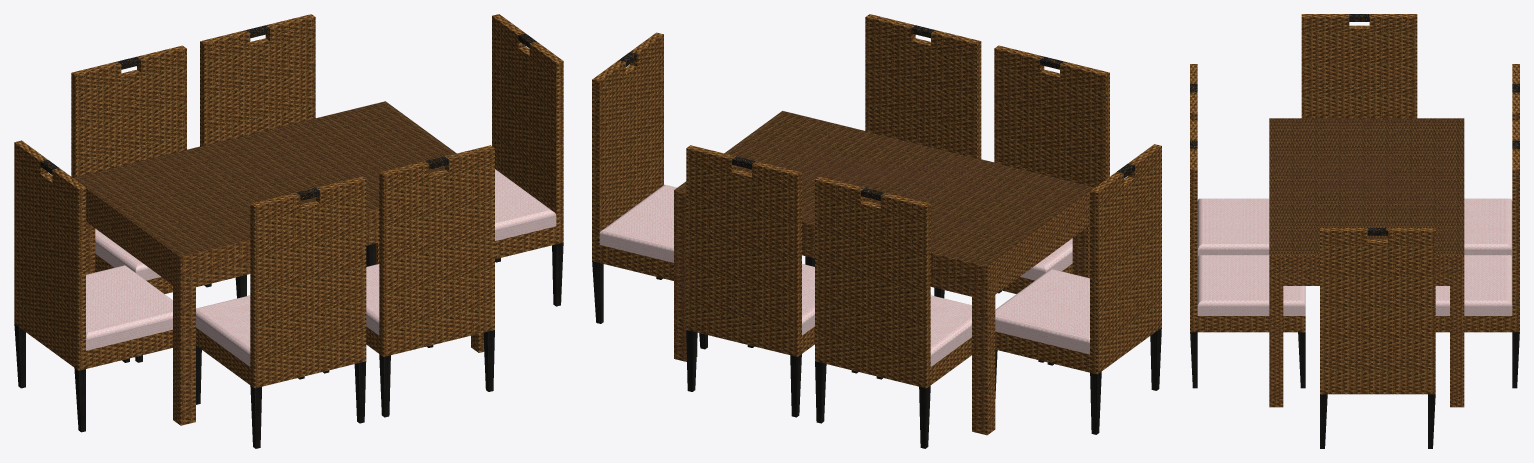
Rendered from dining furniture 9.dae.
3 views of the same model, side by side, from view 1: azimuth 30°, elevation 25°; view 2: azimuth 150°, elevation 25°; view 3: azimuth 270°, elevation 25° (orthographic). The views are drawn at different scales.
Parts seen in each view (by area): view 1: group_30, SketchUp, group_24, group_31, group_12, group_6, group_0, group_18, group_17, group_11, group_29, group_5 (+8 smaller); view 2: group_30, SketchUp, group_0, group_18, group_12, group_24, group_31, group_6, group_17, group_11, group_5, group_29 (+8 smaller); view 3: group_30, SketchUp, group_6, group_12, group_36, group_29, group_23, group_31, group_5, group_18, group_35, group_21 (+5 smaller).
Boxes of the visible parts, left/top/right/bottom form: group_30: left=73, top=101, right=484, bottom=425; SketchUp: left=73, top=101, right=456, bottom=256; group_24: left=196, top=176, right=366, bottom=388; group_31: left=366, top=145, right=494, bottom=356; group_12: left=14, top=140, right=172, bottom=370; group_6: left=492, top=14, right=563, bottom=259; group_0: left=71, top=45, right=186, bottom=293; group_18: left=200, top=14, right=315, bottom=146; group_17: left=86, top=265, right=172, bottom=350; group_11: left=495, top=169, right=556, bottom=240; group_29: left=196, top=295, right=250, bottom=366; group_5: left=95, top=228, right=160, bottom=280; group_30: left=674, top=111, right=1094, bottom=435; SketchUp: left=675, top=111, right=1094, bottom=265; group_0: left=815, top=176, right=971, bottom=388; group_18: left=686, top=145, right=814, bottom=356; group_12: left=995, top=144, right=1161, bottom=374; group_24: left=994, top=45, right=1109, bottom=293; group_31: left=865, top=14, right=981, bottom=158; group_6: left=592, top=32, right=673, bottom=280; group_17: left=995, top=269, right=1089, bottom=354; group_11: left=599, top=184, right=676, bottom=262; group_5: left=930, top=295, right=971, bottom=366; group_29: left=1020, top=238, right=1072, bottom=280; group_30: left=1269, top=118, right=1464, bottom=407; SketchUp: left=1269, top=118, right=1463, bottom=255; group_6: left=1320, top=228, right=1435, bottom=394; group_12: left=1301, top=14, right=1417, bottom=118; group_36: left=1197, top=255, right=1305, bottom=315; group_29: left=1197, top=198, right=1269, bottom=256; group_23: left=1435, top=255, right=1512, bottom=315; group_31: left=1190, top=120, right=1305, bottom=332; group_5: left=1464, top=198, right=1512, bottom=256; group_18: left=1435, top=120, right=1519, bottom=332; group_35: left=1298, top=332, right=1305, bottom=388; group_21: left=1512, top=332, right=1519, bottom=388.
Size of the model in its own units: 78.69 by 50.51 by 37.01.
7 materials, 6 textured.
